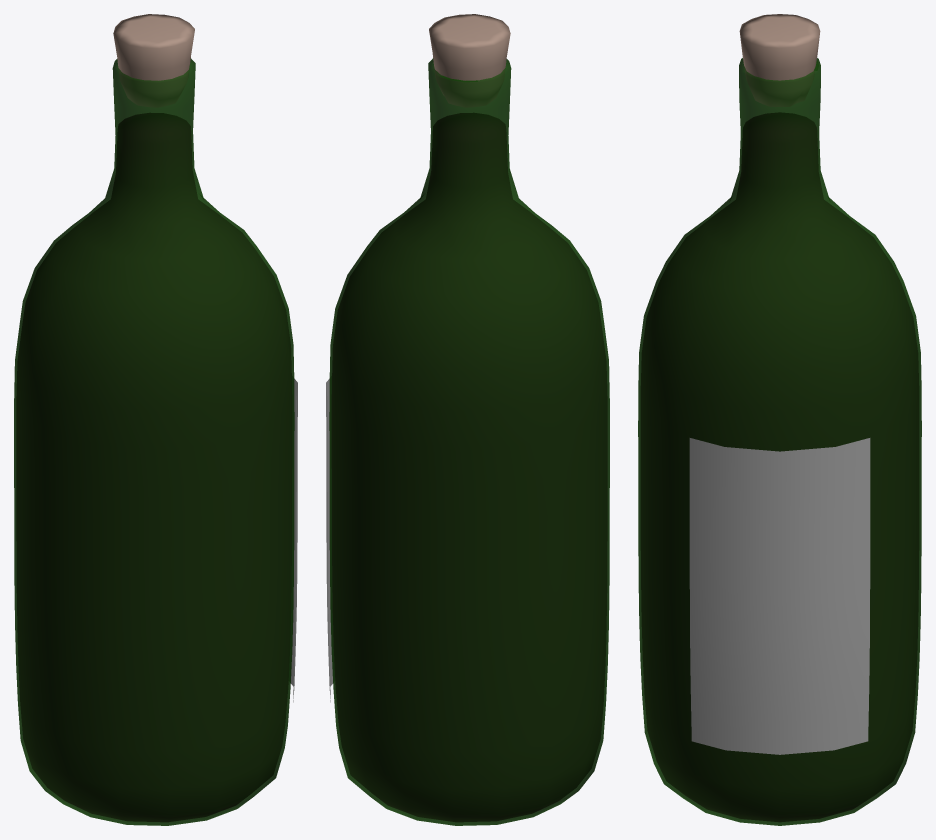
File: Wine.fbx
3 views of the same model, side by side, from view 1: azimuth 30°, elevation 25°; view 2: azimuth 150°, elevation 25°; view 3: azimuth 270°, elevation 25° (orthographic).
Visible parts, largest first — view 1: wine1, polySurface5; view 2: wine1, polySurface5; view 3: wine1, polySurface5.
Part boxes in pixels (left/top/right/bottom): wine1: left=14, top=14, right=297, bottom=825; polySurface5: left=16, top=113, right=291, bottom=821; wine1: left=326, top=14, right=609, bottom=825; polySurface5: left=332, top=113, right=607, bottom=821; wine1: left=638, top=14, right=921, bottom=825; polySurface5: left=641, top=112, right=918, bottom=821.
Bounding box in the file's own units: 2.06 × 5.97 × 2.04.
